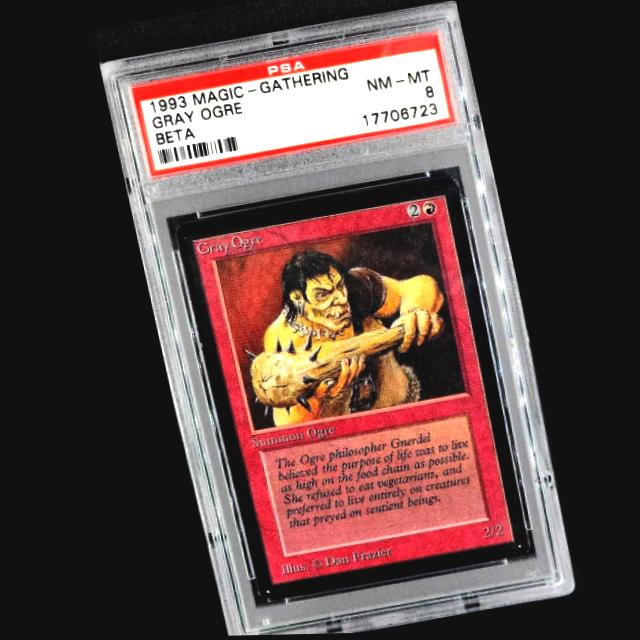card: (171, 175, 525, 603)
psa_label_old: (129, 33, 455, 178)
psa_slab: (98, 1, 571, 637)
